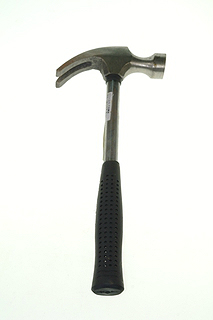hammer: (48, 44, 179, 299)
